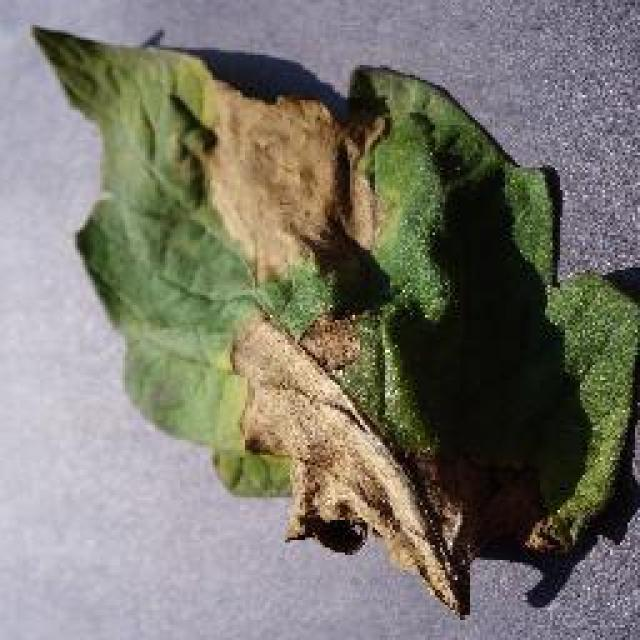Tomato Late Blight: (158, 51, 444, 602)
